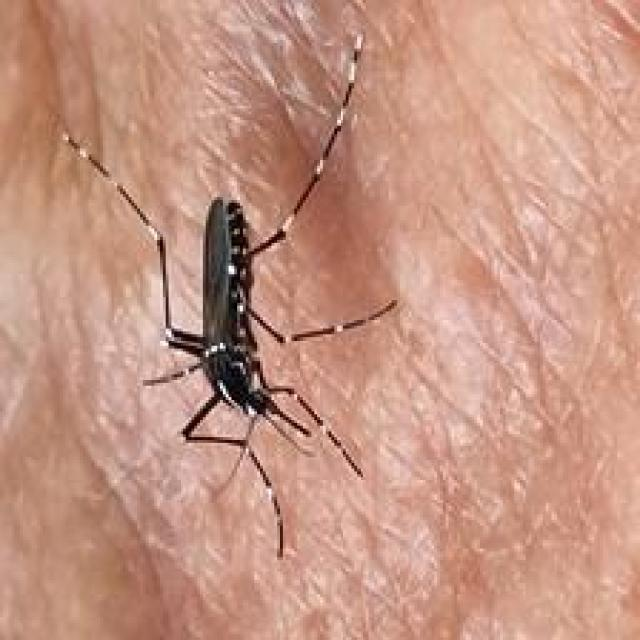Aedes albopictus: (57, 30, 400, 559)
